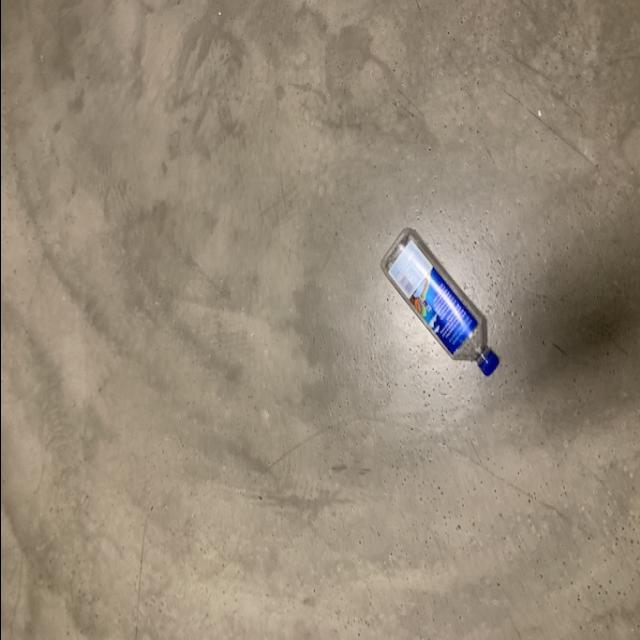PET: (372, 222, 499, 380)
